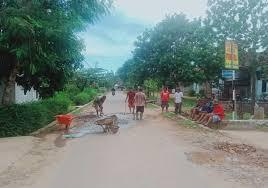Pothole: (176, 140, 267, 176), (52, 105, 127, 133)
